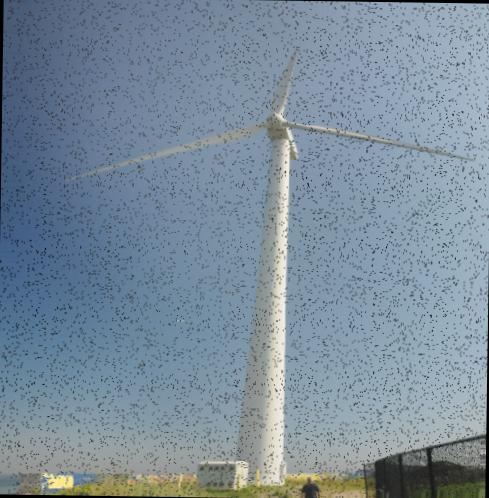wind turbine: (67, 47, 476, 479)
